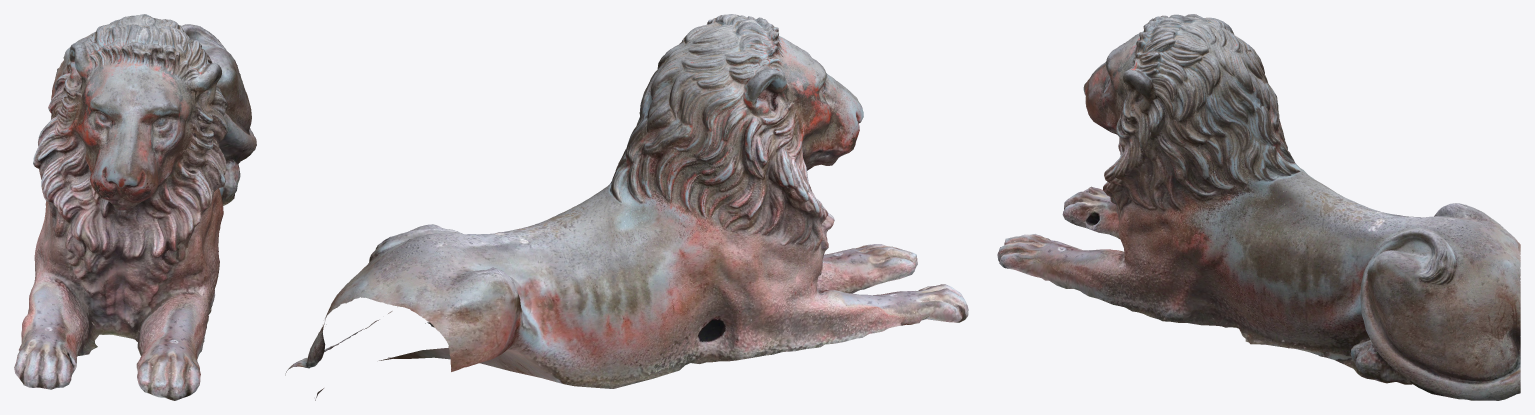
Rendered from 3Ddata.glb.
3 views of the same model, side by side, from view 1: azimuth 30°, elevation 25°; view 2: azimuth 150°, elevation 25°; view 3: azimuth 270°, elevation 25° (orthographic). The views are drawn at different scales.
Visible parts, largest first — view 1: 84a23162-991b-40a2-b570-62cf66580215; view 2: 84a23162-991b-40a2-b570-62cf66580215; view 3: 84a23162-991b-40a2-b570-62cf66580215.
Part boxes in pixels (x1,y1,x2,y2): 84a23162-991b-40a2-b570-62cf66580215: [14, 14, 256, 400]; 84a23162-991b-40a2-b570-62cf66580215: [285, 14, 968, 400]; 84a23162-991b-40a2-b570-62cf66580215: [997, 14, 1520, 400].
Bounding box in the file's own units: 1.25 × 0.8211 × 1.41.
Materials: 1 (1 with a texture image).
